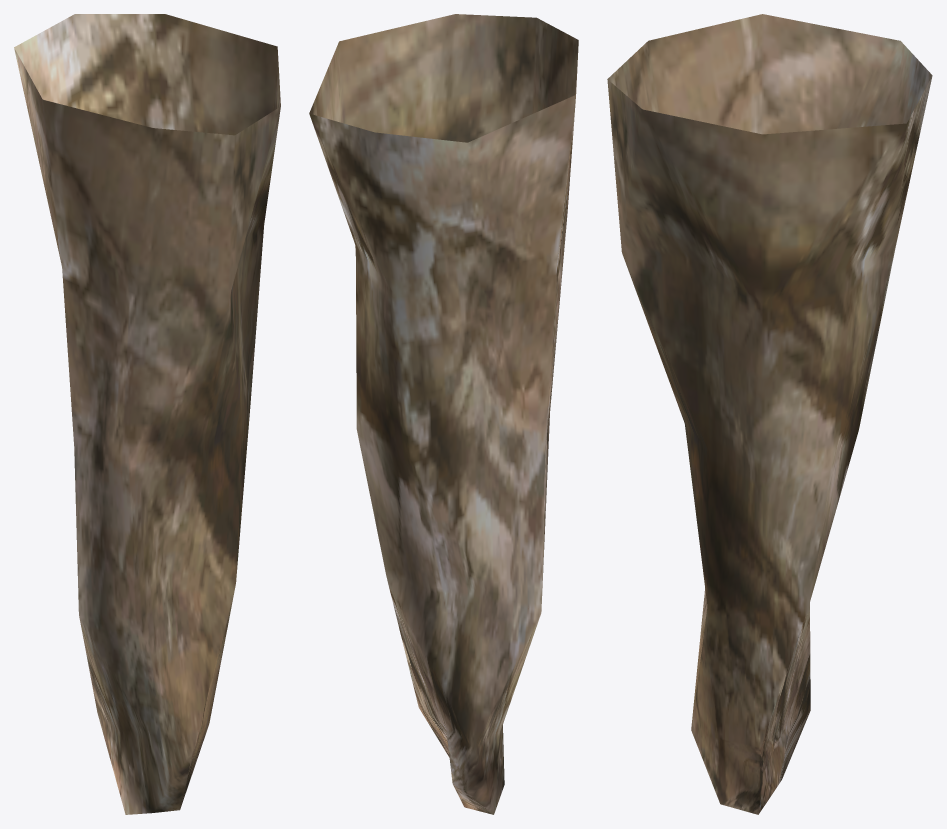
Rendered from thm_tato_cave_stalactite_lrg_l0.fbx.
The picture shows the model from 3 angles, left to right: view 1: azimuth 30°, elevation 25°; view 2: azimuth 150°, elevation 25°; view 3: azimuth 270°, elevation 25°; orthographic projection.
Visible parts, largest first — view 1: mesh_node; view 2: mesh_node; view 3: mesh_node.
Boxes of the visible parts, box(x1,y1,x2,y2) form: mesh_node: box(14, 14, 280, 814); mesh_node: box(309, 14, 578, 814); mesh_node: box(607, 14, 932, 814).
Bounding box in the file's own units: 2.27 × 6.79 × 2.68.
Materials: 1 (1 with a texture image).
